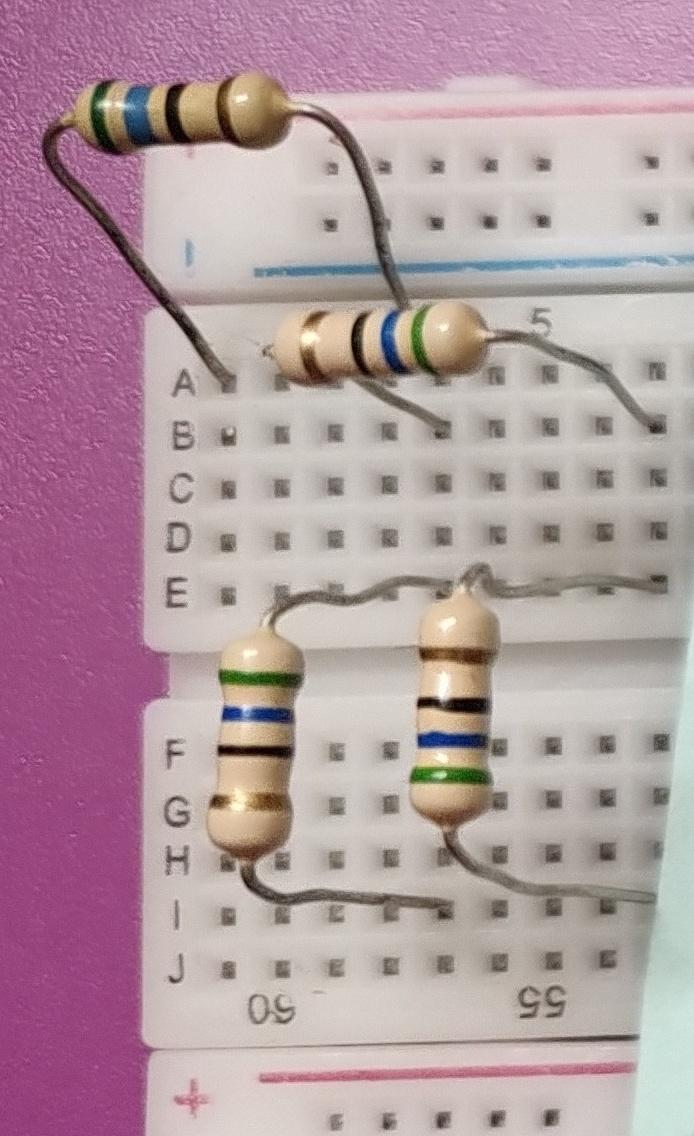resistor: (198, 618, 304, 885), (401, 581, 511, 837), (261, 283, 511, 388), (58, 66, 307, 154)
